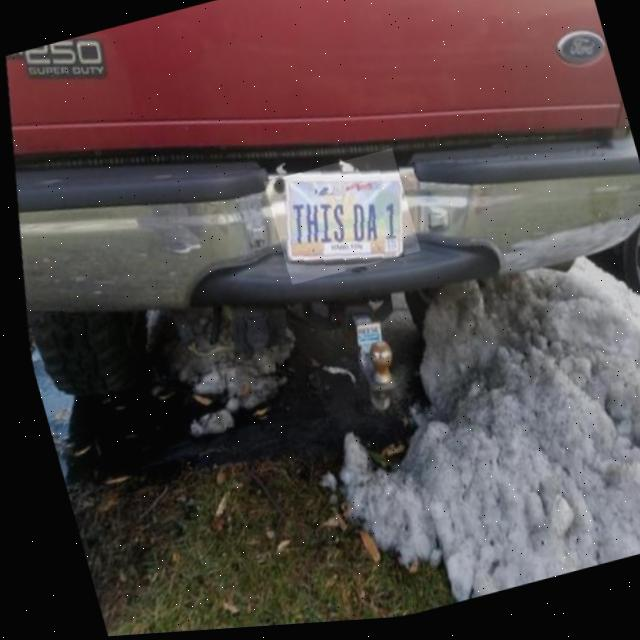LicensePlate: (280, 181, 397, 266)
